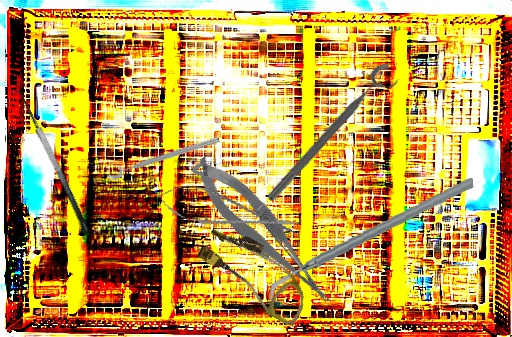Cannula: (189, 219, 321, 328)
Chopper: (259, 177, 481, 302)
Fixation Ring: (262, 58, 405, 213), (102, 127, 222, 182)
Micro Scissor: (185, 144, 338, 322), (153, 177, 303, 247)
Spatula Surgical: (6, 85, 92, 240)
